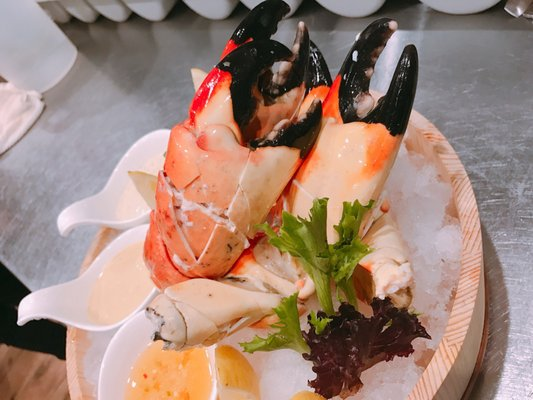soup: (126, 4, 459, 398)
sushi: (313, 0, 389, 19), (419, 0, 505, 15)
